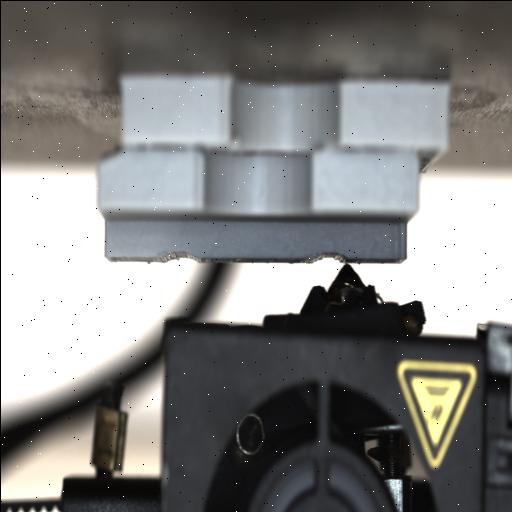layer_shift: (97, 137, 449, 163)
